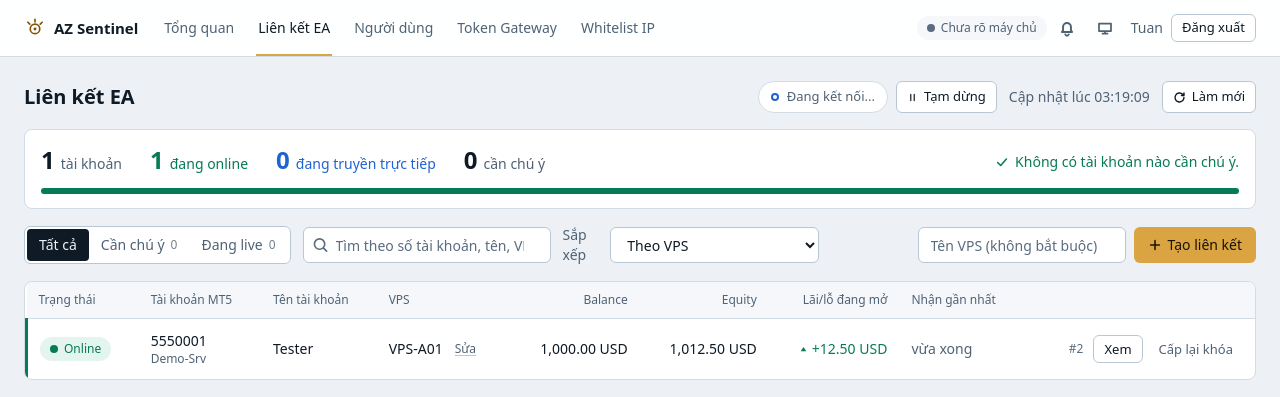
it: tên VPS tự nhập › sửa tên ngay trong danh sách: Lưu gửi tên mới; Hủy thì không gửi gì
Expected: the text "VPS-A01" is shown, [389,339,443,359]
Click the button "Sửa" at (465, 349), box [451,341,480,357]
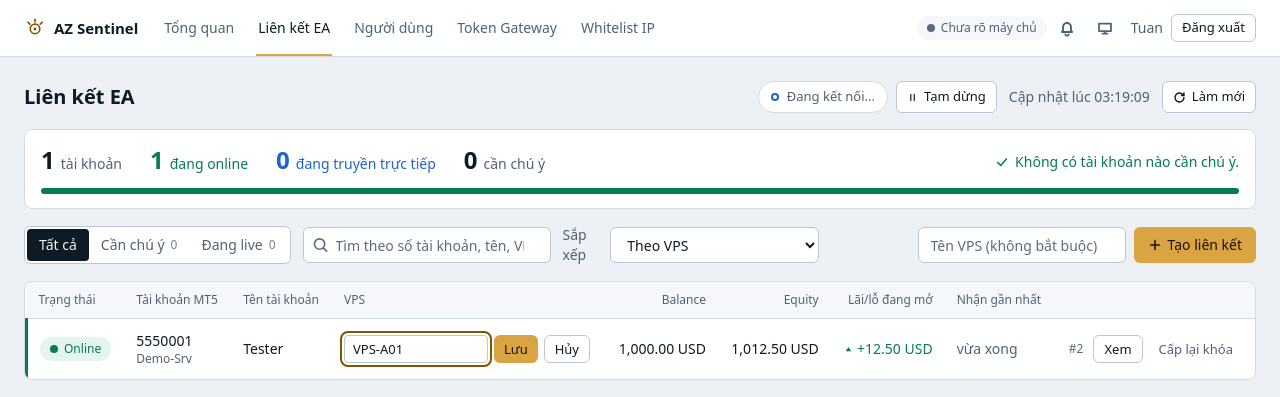
Click the button "Hủy" at (567, 349), box [544,335,590,363]
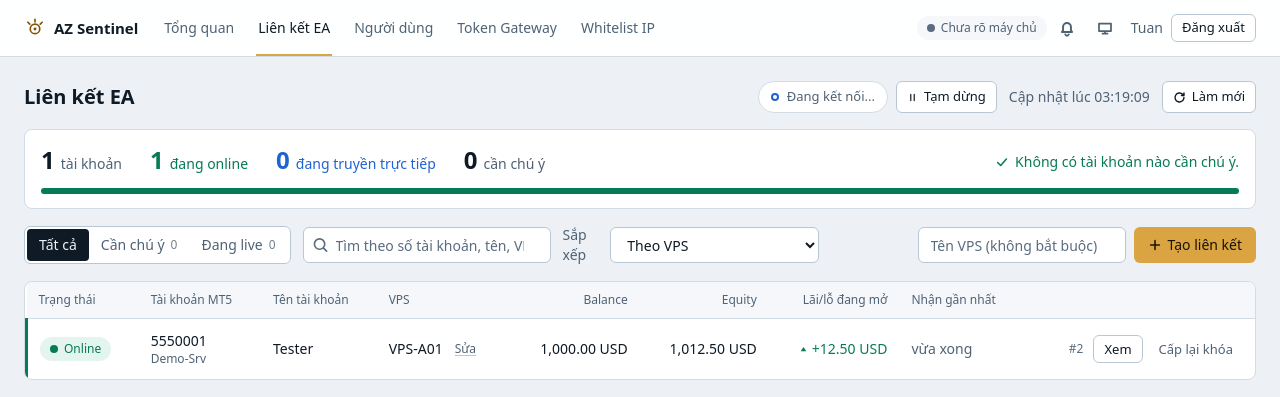
Click the button "Sửa" at (465, 349), box [451,341,480,357]
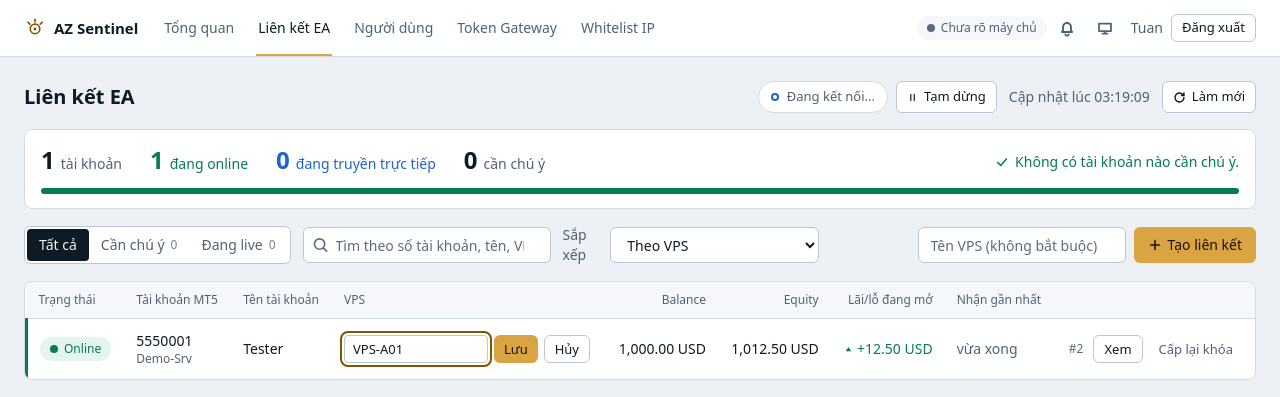
Replace the text in the field named "Tên VPS #2" with "VPS-B02" at (416, 349), box [344,335,488,363]
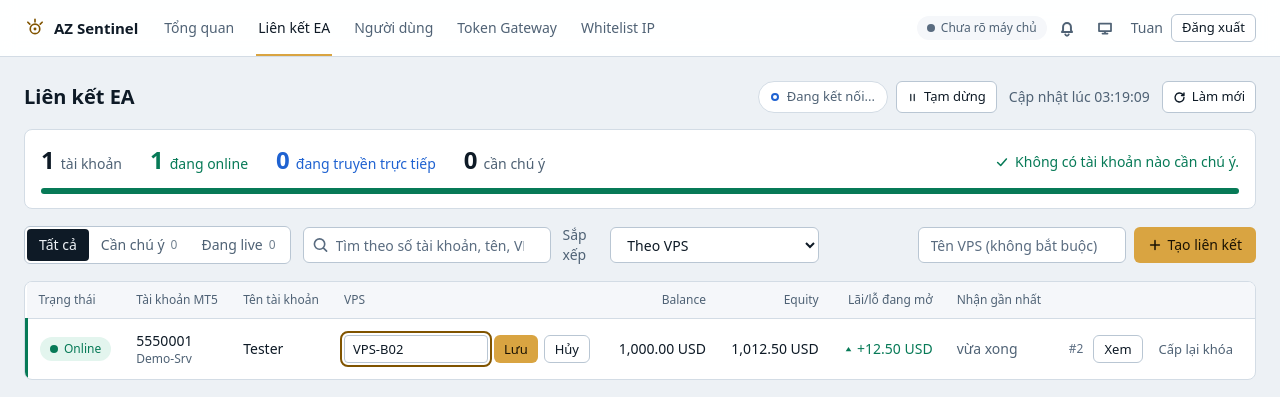
Click the button "Lưu" at (516, 349), box [494,335,538,363]
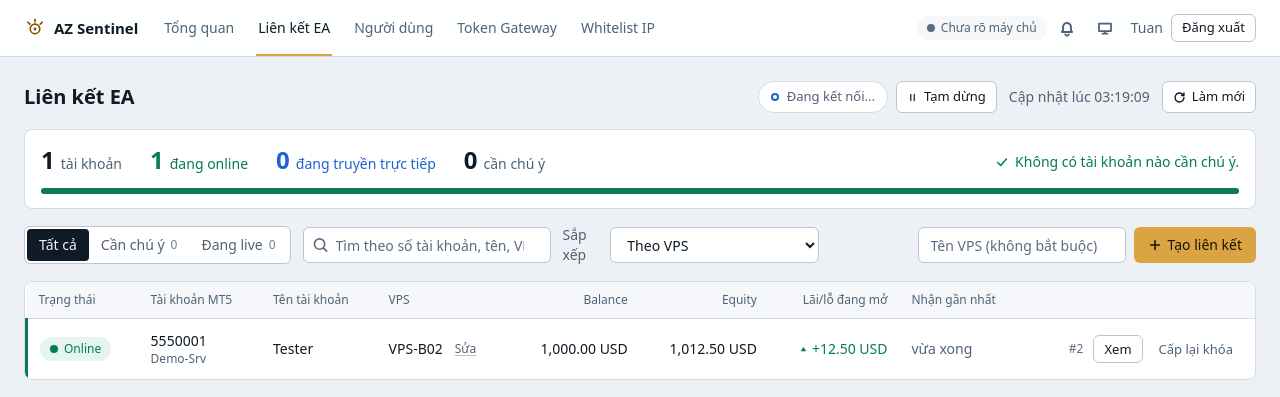
Result: the text "VPS-B02" is shown at [389,339,443,359]
